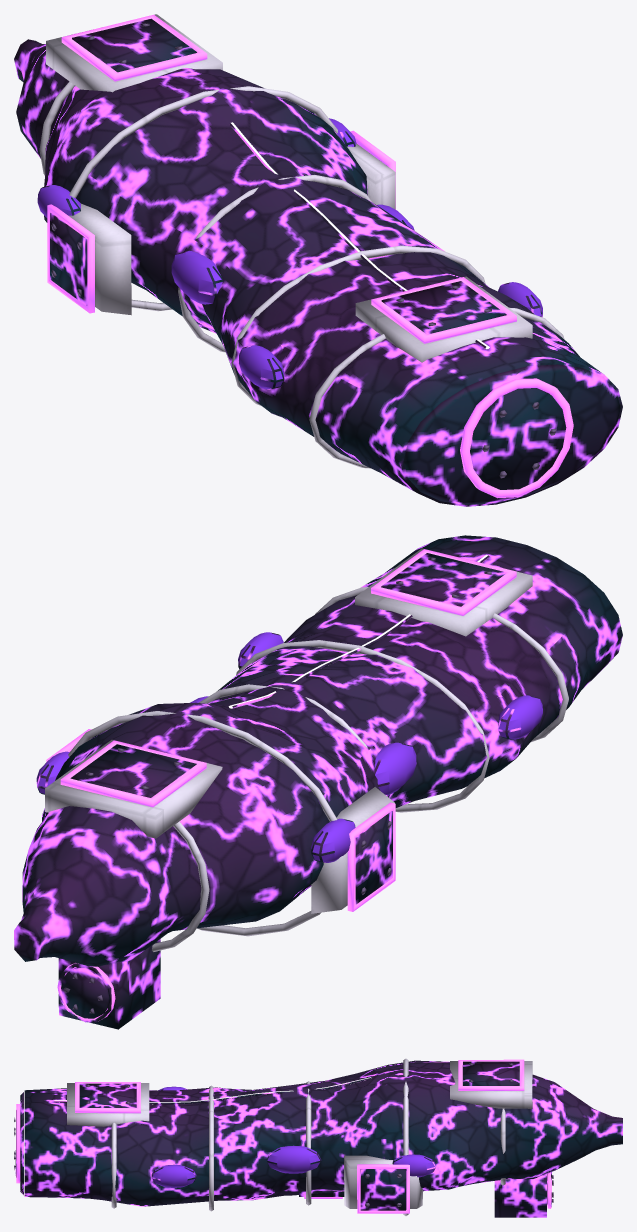
The model's file is casco_alien_t5.fbx.
3 views of the same model, one above another, from view 1: azimuth 30°, elevation 25°; view 2: azimuth 150°, elevation 25°; view 3: azimuth 270°, elevation 25° (orthographic). The views are drawn at different scales.
Parts seen in each view (by area): view 1: casco_alien_t5, casco_alien_t5_cristal; view 2: casco_alien_t5, casco_alien_t5_cristal; view 3: casco_alien_t5, casco_alien_t5_cristal, casco_alien_t5_neon.
Boxes of the visible parts, <box> form: casco_alien_t5: <box>14,14,622,506</box>; casco_alien_t5_cristal: <box>37,118,542,389</box>; casco_alien_t5: <box>14,535,622,1029</box>; casco_alien_t5_cristal: <box>36,632,542,862</box>; casco_alien_t5: <box>14,1058,622,1217</box>; casco_alien_t5_cristal: <box>151,1086,435,1187</box>; casco_alien_t5_neon: <box>54,1077,371,1104</box>.
Size of the model in its own units: 6.72 by 4.56 by 18.31.
